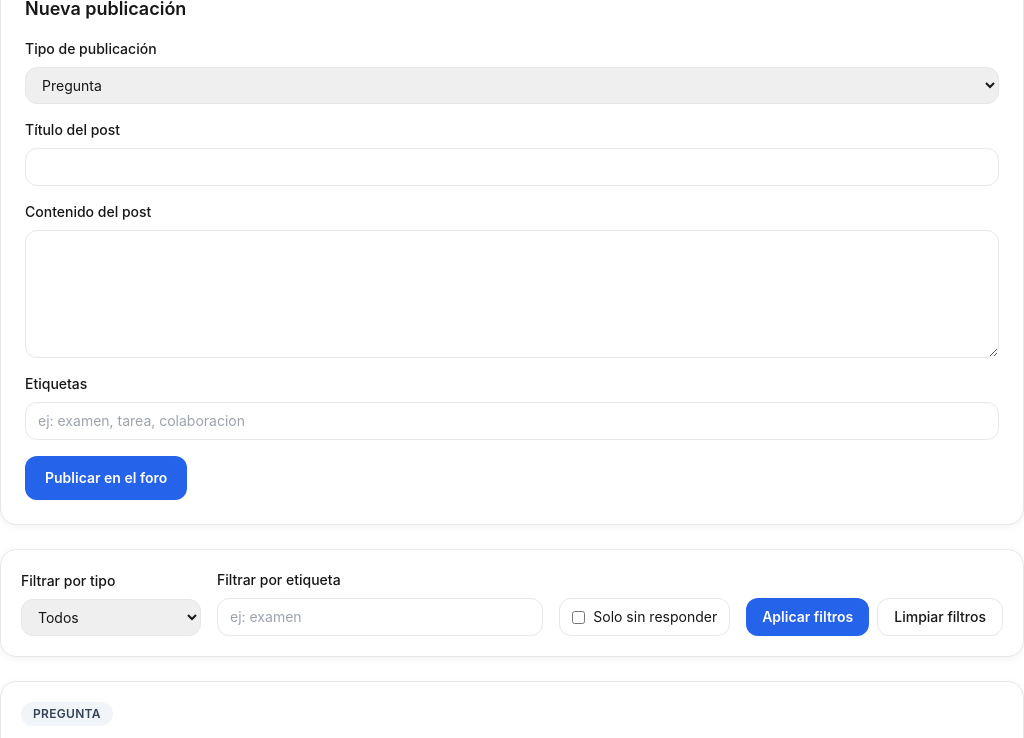
it: ForoListado › debería cargar posts y crear una nueva publicación con etiquetas normalizadas
Select "Discusión" in the dropdown labelled "Tipo de publicación": (512,86) x1=25 y1=67 x2=999 y2=104
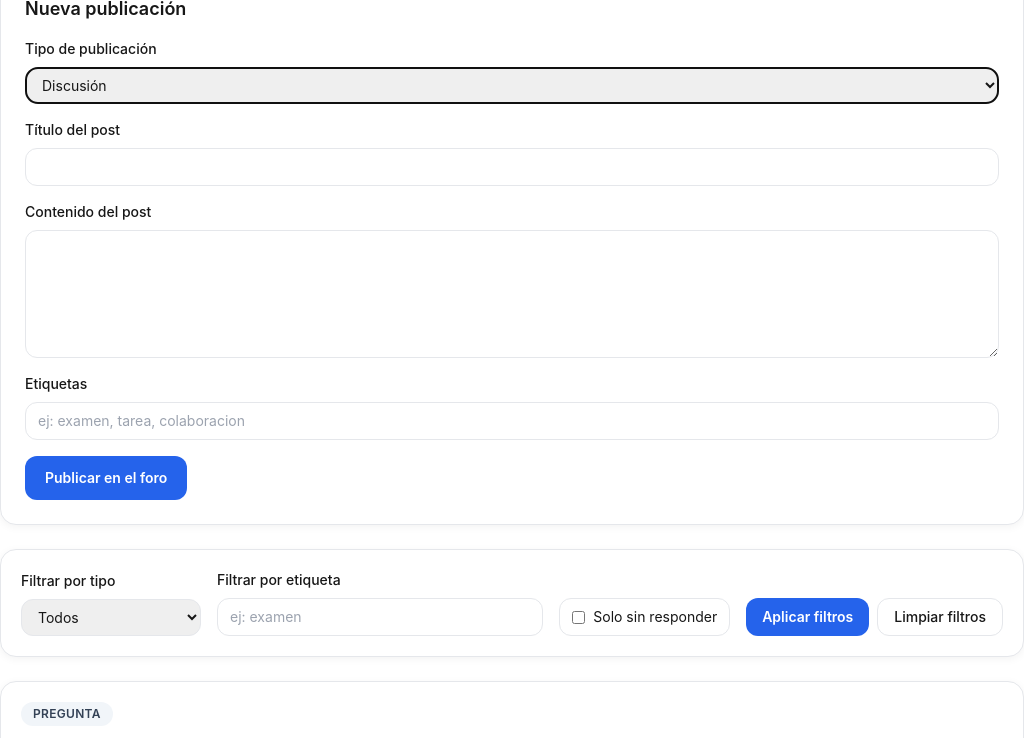
In the field labelled "Título del post": (512,167) x1=25 y1=148 x2=999 y2=186, type "Compartamos resúmenes"
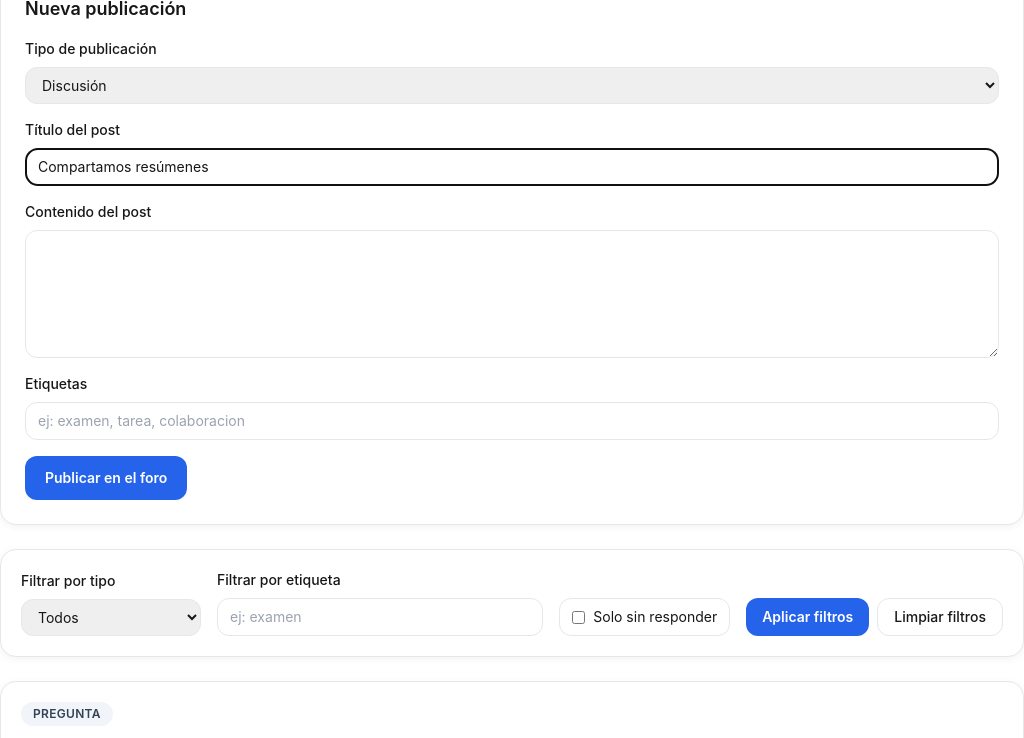
In the text box labelled "Contenido del post": (512,294) x1=25 y1=230 x2=999 y2=358, type "Dejo un espacio para compartir apuntes."
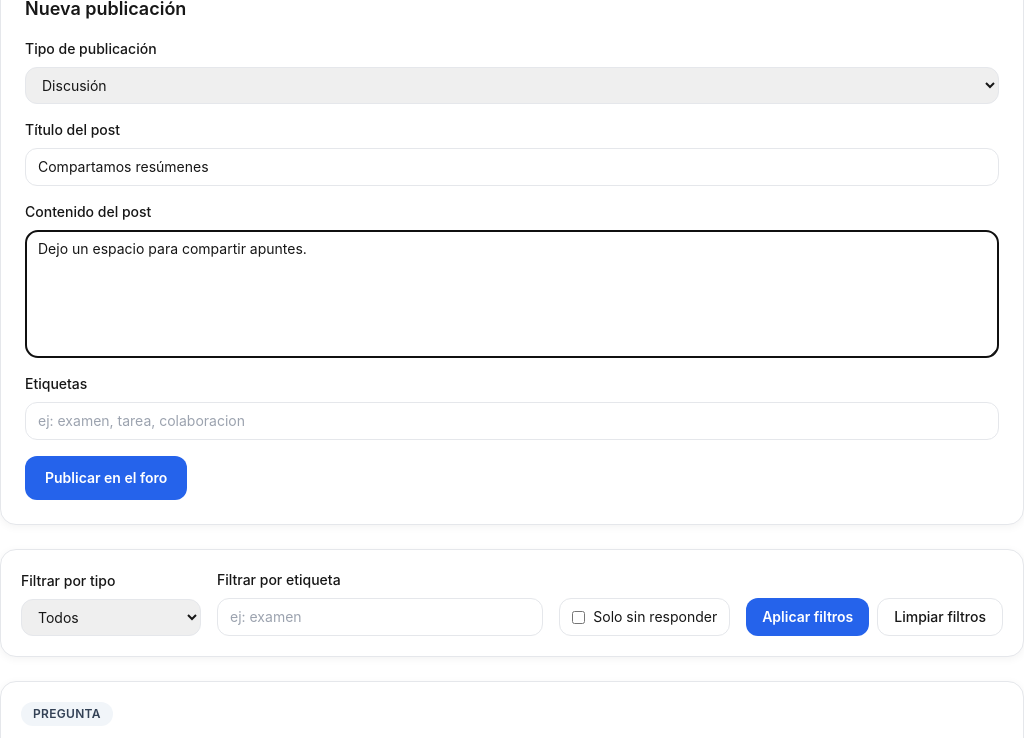
In the field labelled "Etiquetas": (512,421) x1=25 y1=402 x2=999 y2=440, type " resumenes, colaboracion, resumenes "
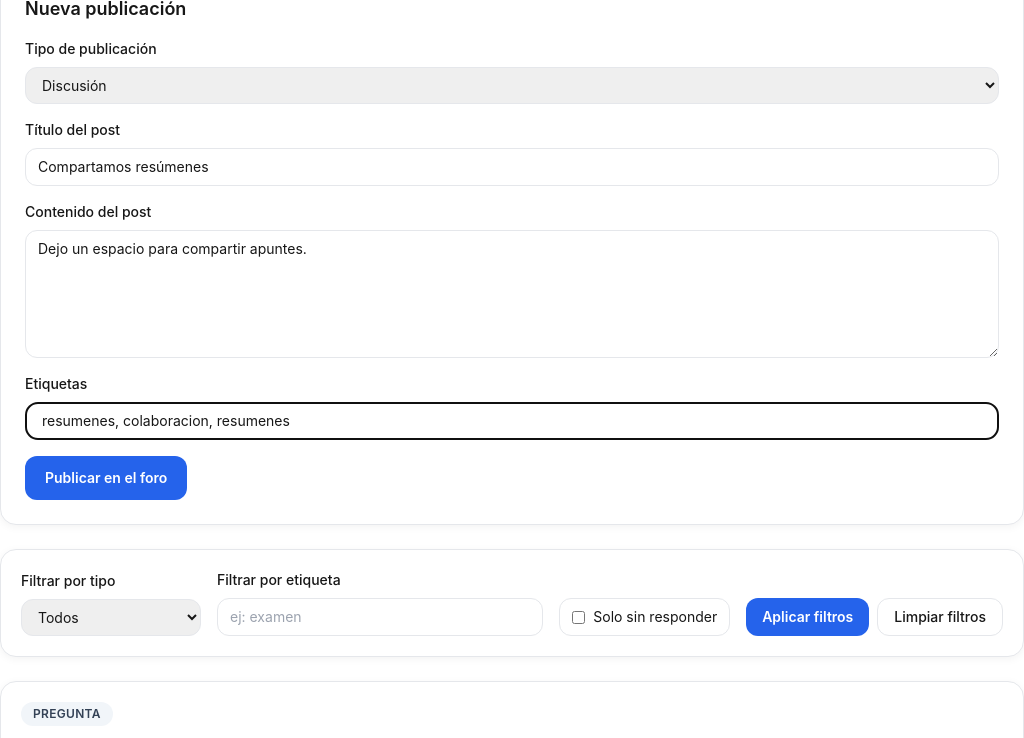
Click the button "Publicar en el foro": (106,478) x1=25 y1=456 x2=187 y2=500
(page scrolled)
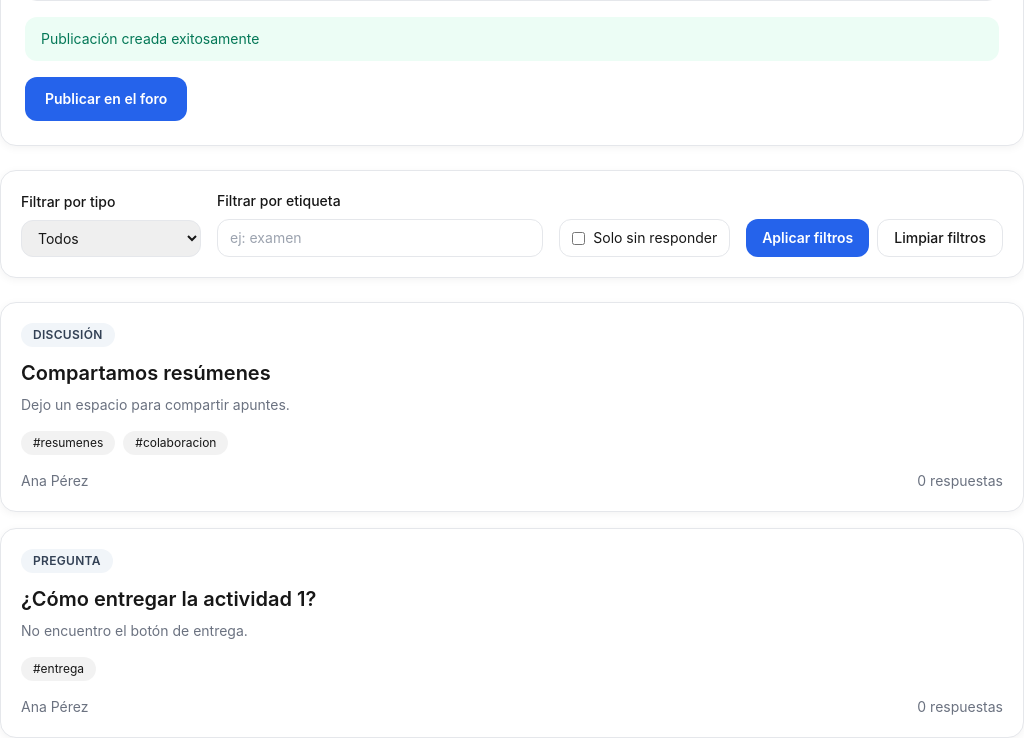
Expected: the text "Publicación creada exitosamente" is shown, x1=25 y1=17 x2=999 y2=61
Expected: the heading "Compartamos resúmenes" is shown, x1=21 y1=359 x2=271 y2=387
